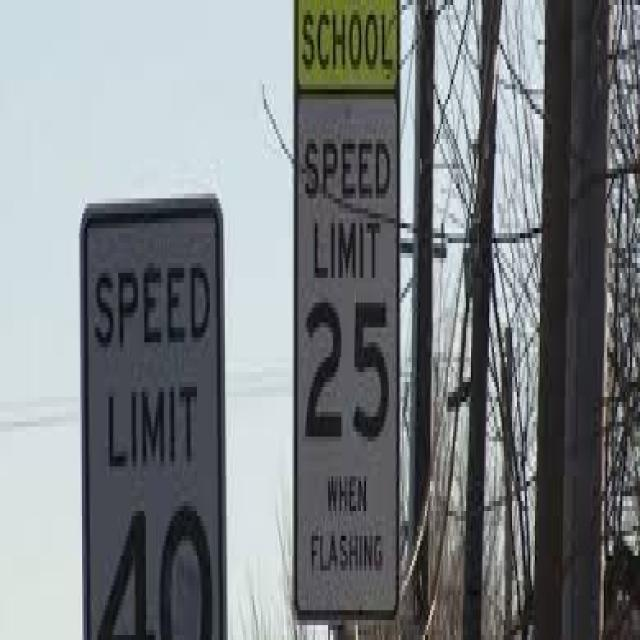speedLimit25: (295, 90, 399, 472)
speedLimit40: (81, 199, 229, 630)
